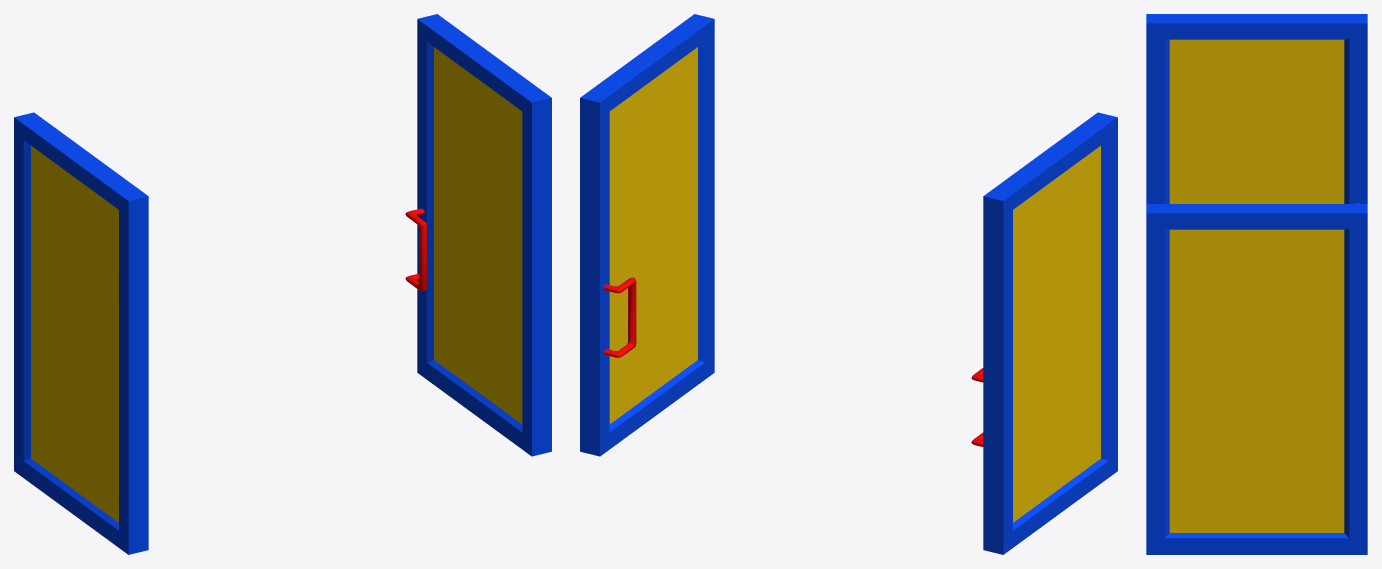
File: Puerta abierta 1.FBX
3 views of the same model, side by side, from view 1: azimuth 30°, elevation 25°; view 2: azimuth 150°, elevation 25°; view 3: azimuth 270°, elevation 25° (orthographic). The views are drawn at different scales.
Parts seen in each view (by area): view 1: Box001; view 2: Box001; view 3: Box001.
Part boxes in pixels (x1,y1,x2,y2): Box001: (14,14,551,554); Box001: (580,14,1117,554); Box001: (1146,14,1367,554).
Bounding box in the file's own units: 107 × 85.54 × 50.18.
